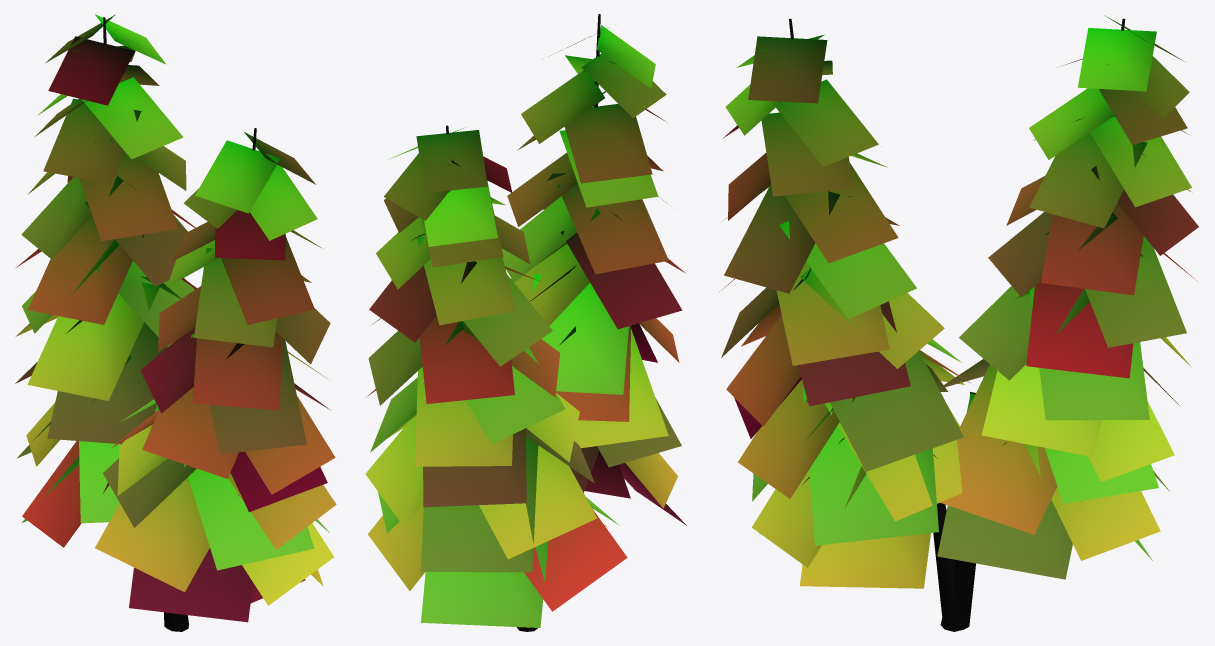
The model's file is Tree_15.fbx.
3 views of the same model, side by side, from view 1: azimuth 30°, elevation 25°; view 2: azimuth 150°, elevation 25°; view 3: azimuth 270°, elevation 25° (orthographic). The views are drawn at different scales.
Parts seen in each view (by area): view 1: Tree_15; view 2: Tree_15; view 3: Tree_15.
Part boxes in pixels (x1=…): Tree_15: x1=15, y1=14, x2=336, y2=631; Tree_15: x1=365, y1=14, x2=686, y2=631; Tree_15: x1=719, y1=15, x2=1198, y2=631.
Bounding box in the file's own units: 737 × 1771 × 1276.
